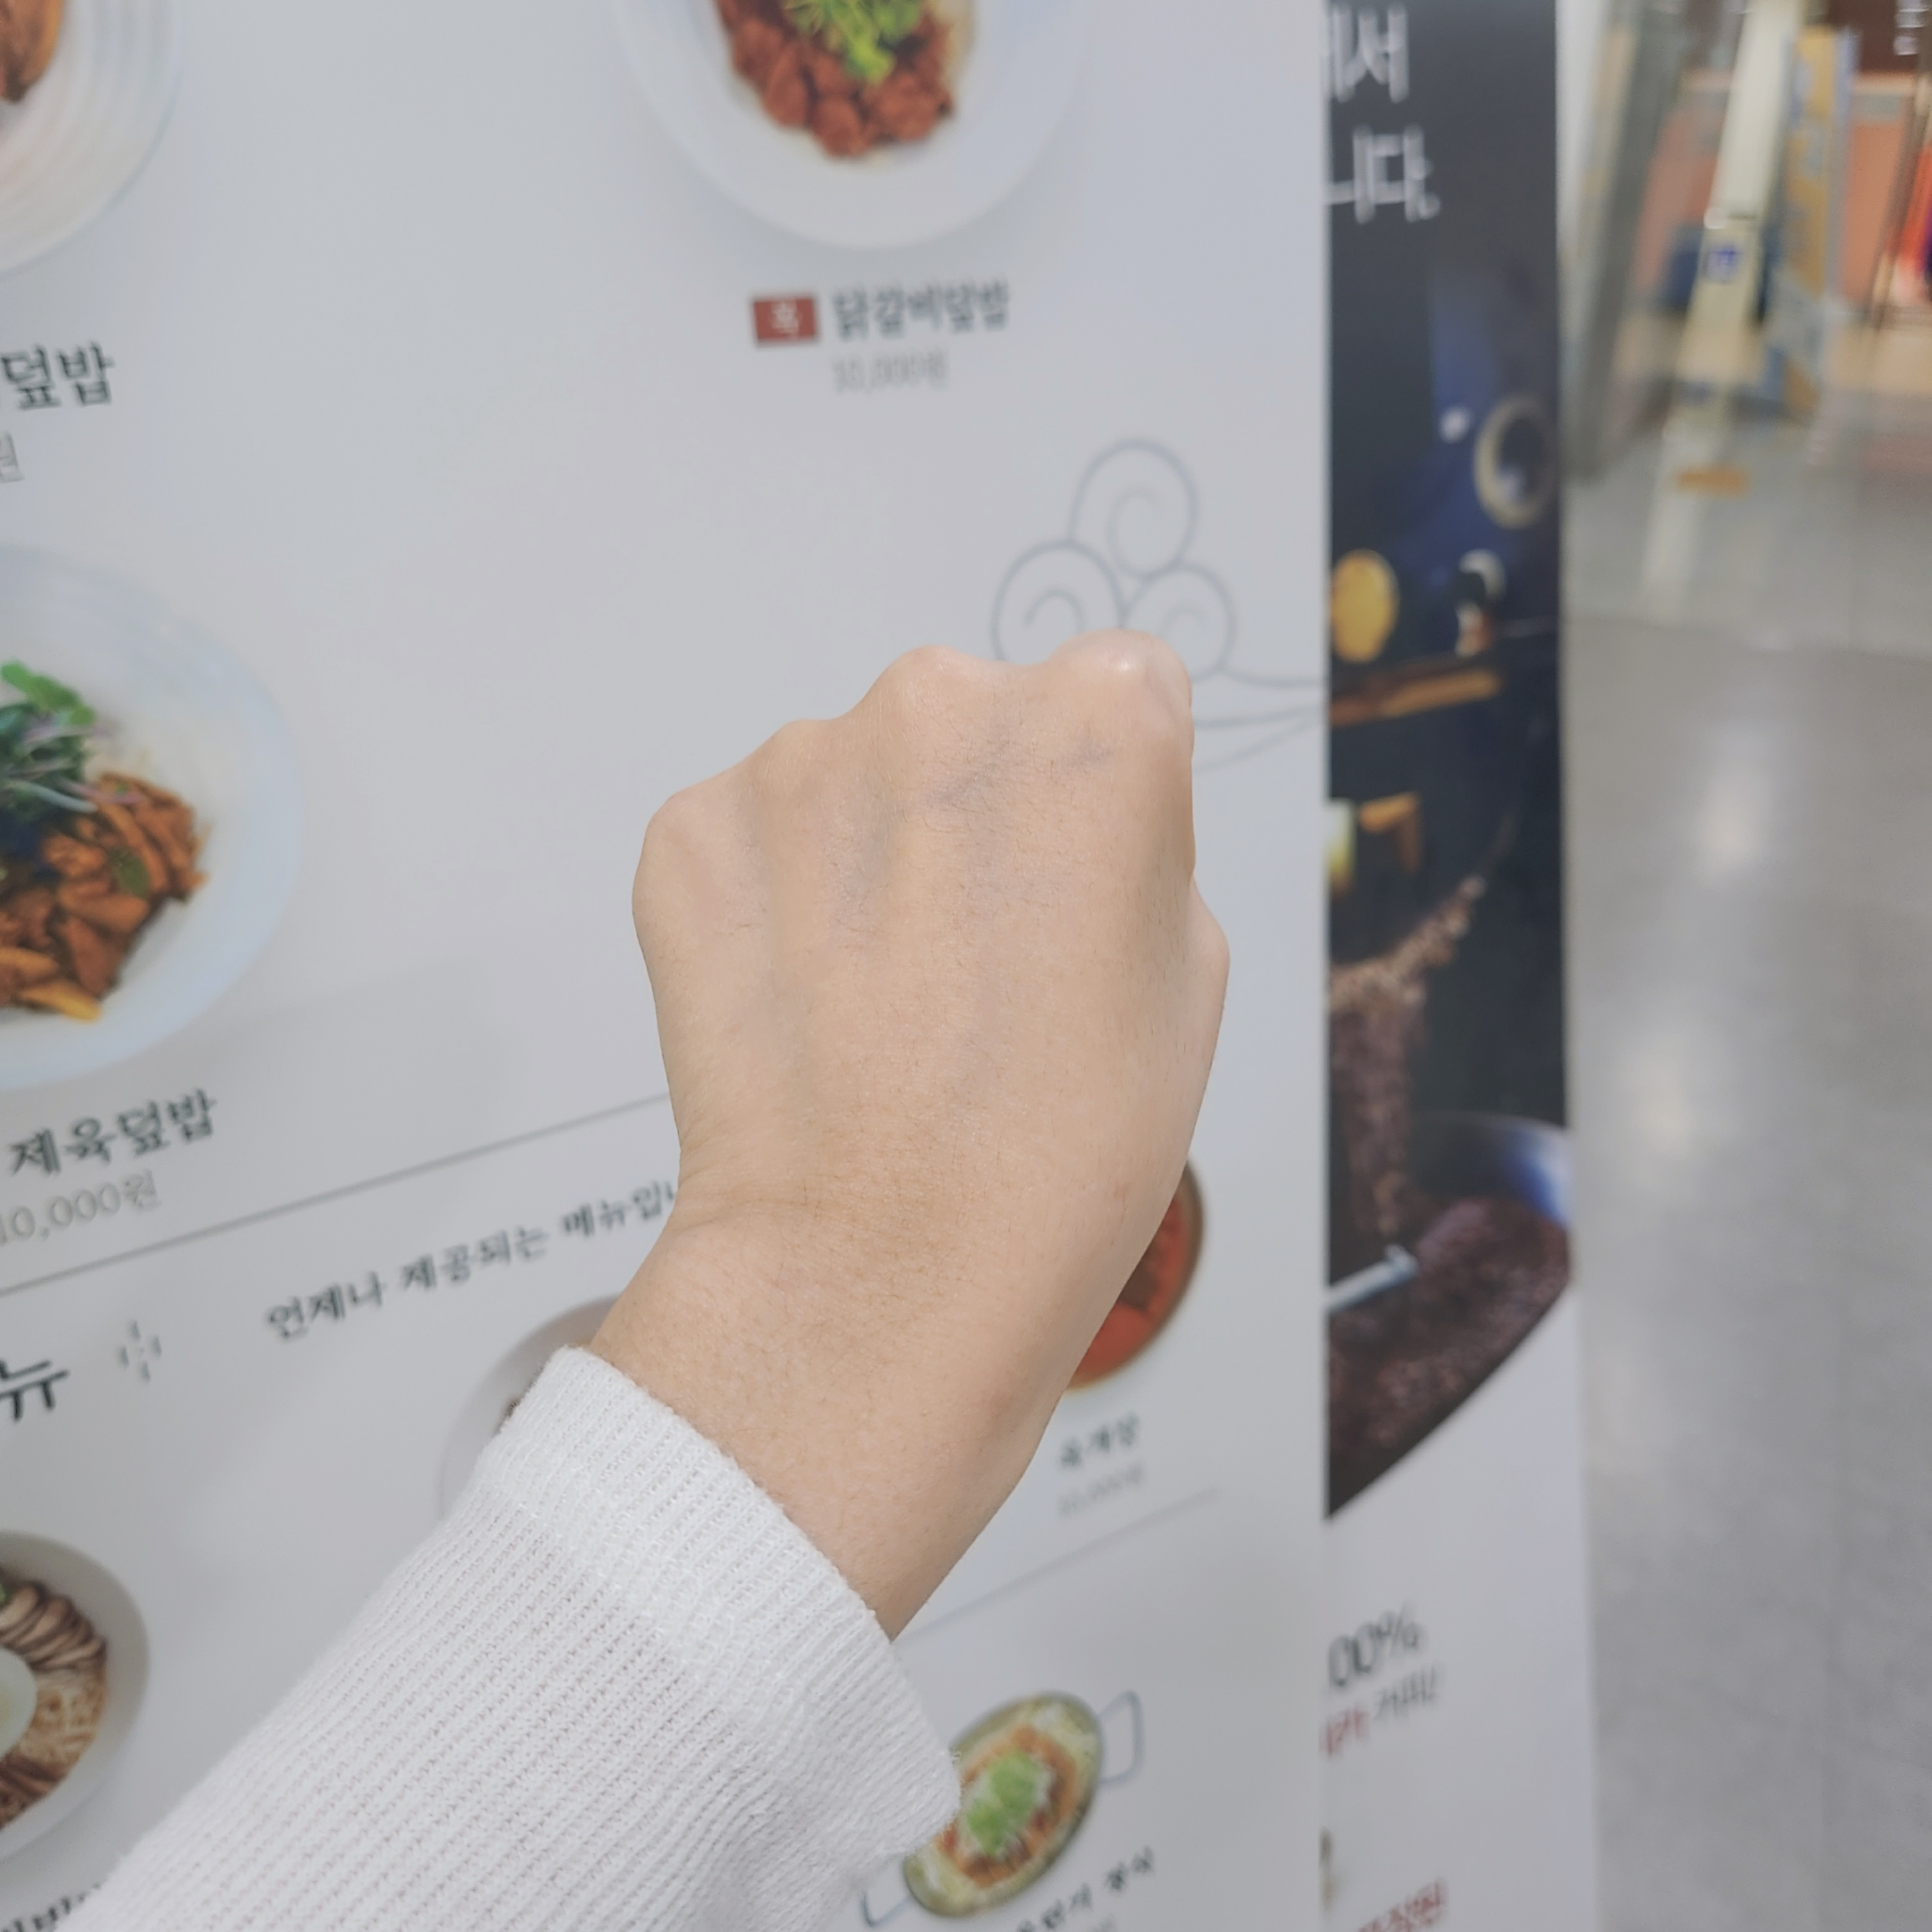smile: (628, 632, 1231, 1341)
